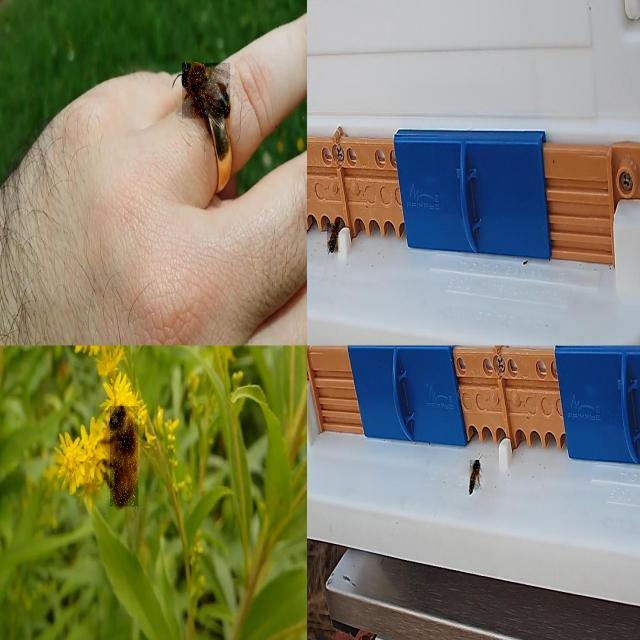honeybee: (178, 61, 232, 121), (111, 409, 136, 502), (466, 455, 484, 495), (327, 223, 341, 258)
